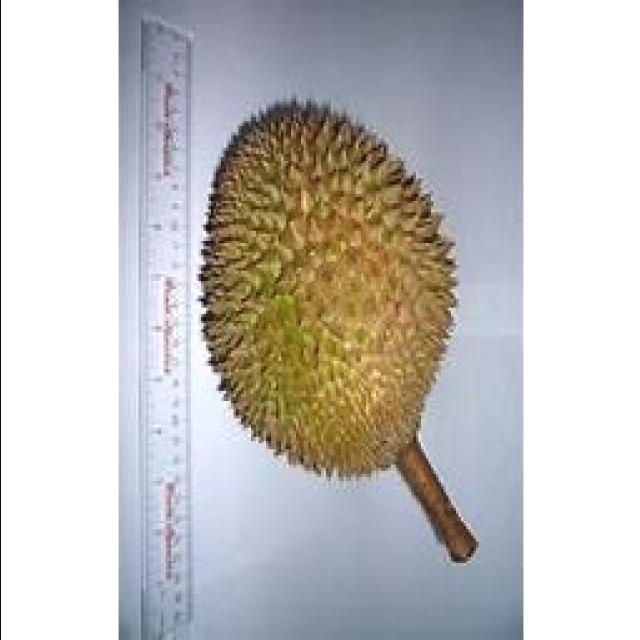agrume: (190, 86, 478, 498)
